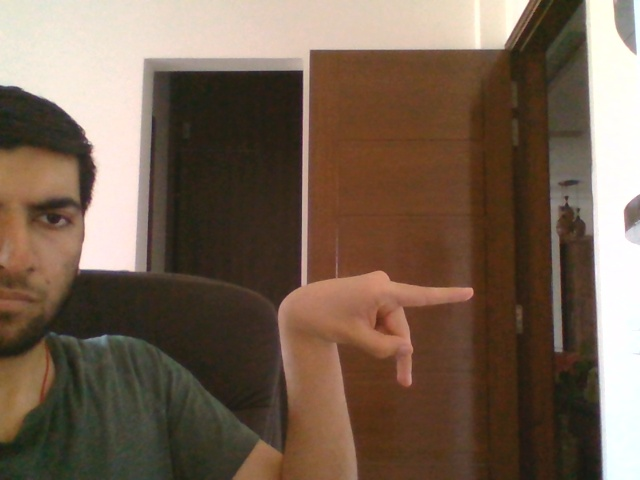LetterP: (276, 269, 474, 389)
